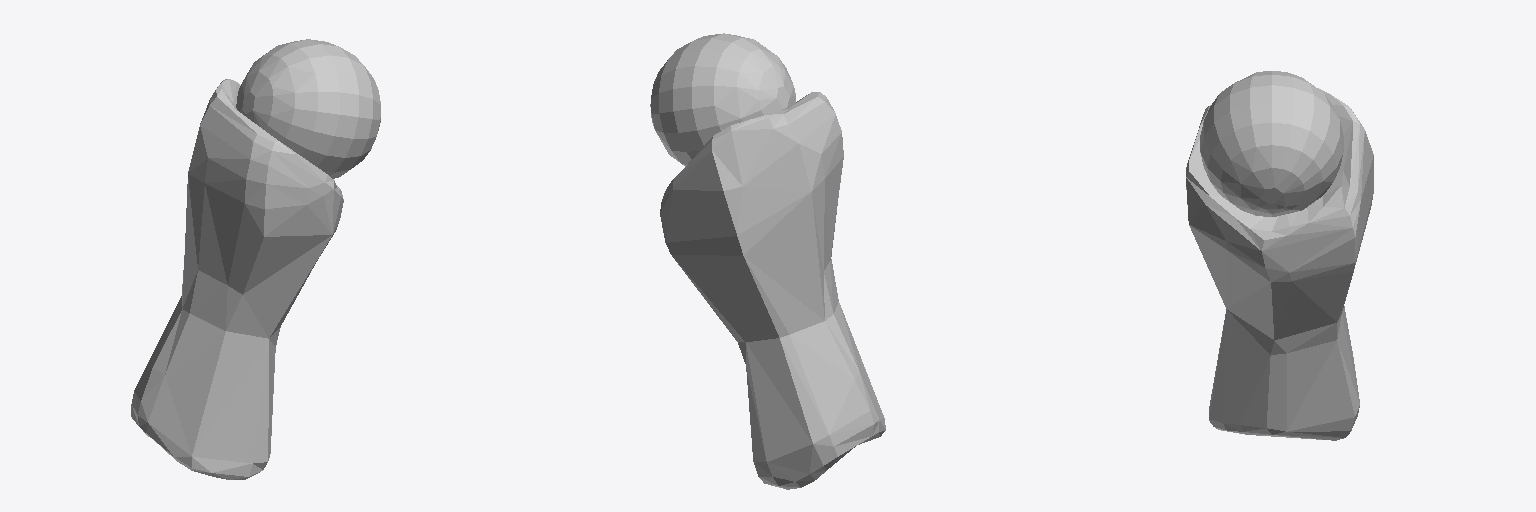
Rendered from brazoI.obj.
3 renders of one model, left to right at view 1: azimuth 30°, elevation 25°; view 2: azimuth 150°, elevation 25°; view 3: azimuth 270°, elevation 25°, orthographic.
Parts seen in each view (by area): view 1: brazoI_Alpha_HighJointsGeo.004; view 2: brazoI_Alpha_HighJointsGeo.004; view 3: brazoI_Alpha_HighJointsGeo.004.
Part boxes in pixels (x1,y1,x2,y2): brazoI_Alpha_HighJointsGeo.004: (131, 39, 380, 479); brazoI_Alpha_HighJointsGeo.004: (650, 33, 885, 489); brazoI_Alpha_HighJointsGeo.004: (1186, 71, 1373, 440).
Size of the model in its own units: 2.89 by 4.95 by 2.1.